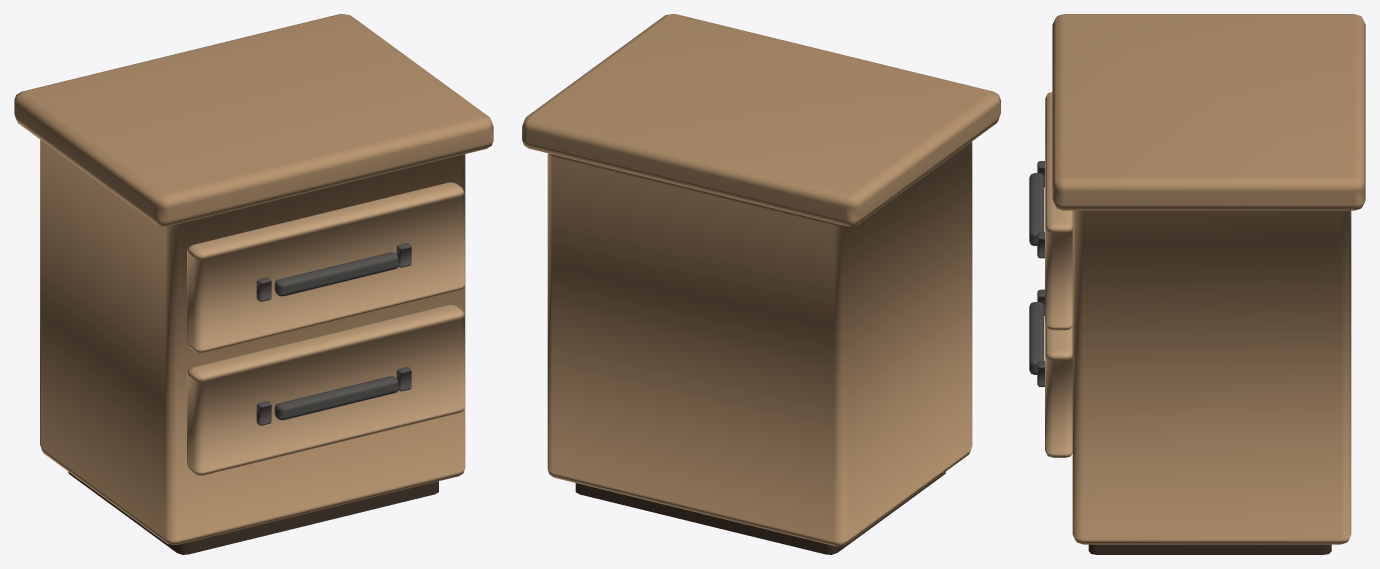
The model's file is nightstand.glb.
3 views of the same model, side by side, from view 1: azimuth 30°, elevation 25°; view 2: azimuth 150°, elevation 25°; view 3: azimuth 270°, elevation 25° (orthographic). The views are drawn at different scales.
Visible parts, largest first — view 1: SM_Nightstand_Upper_Handle_Left_Mount.008; view 2: SM_Nightstand_Upper_Handle_Left_Mount.008; view 3: SM_Nightstand_Upper_Handle_Left_Mount.008.
Boxes of the visible parts, x1=… form: SM_Nightstand_Upper_Handle_Left_Mount.008: x1=14, y1=14, x2=493, y2=554; SM_Nightstand_Upper_Handle_Left_Mount.008: x1=522, y1=14, x2=1000, y2=554; SM_Nightstand_Upper_Handle_Left_Mount.008: x1=1029, y1=14, x2=1365, y2=554.
Size of the model in its own units: 0.6057 by 0.65 by 0.5019.
